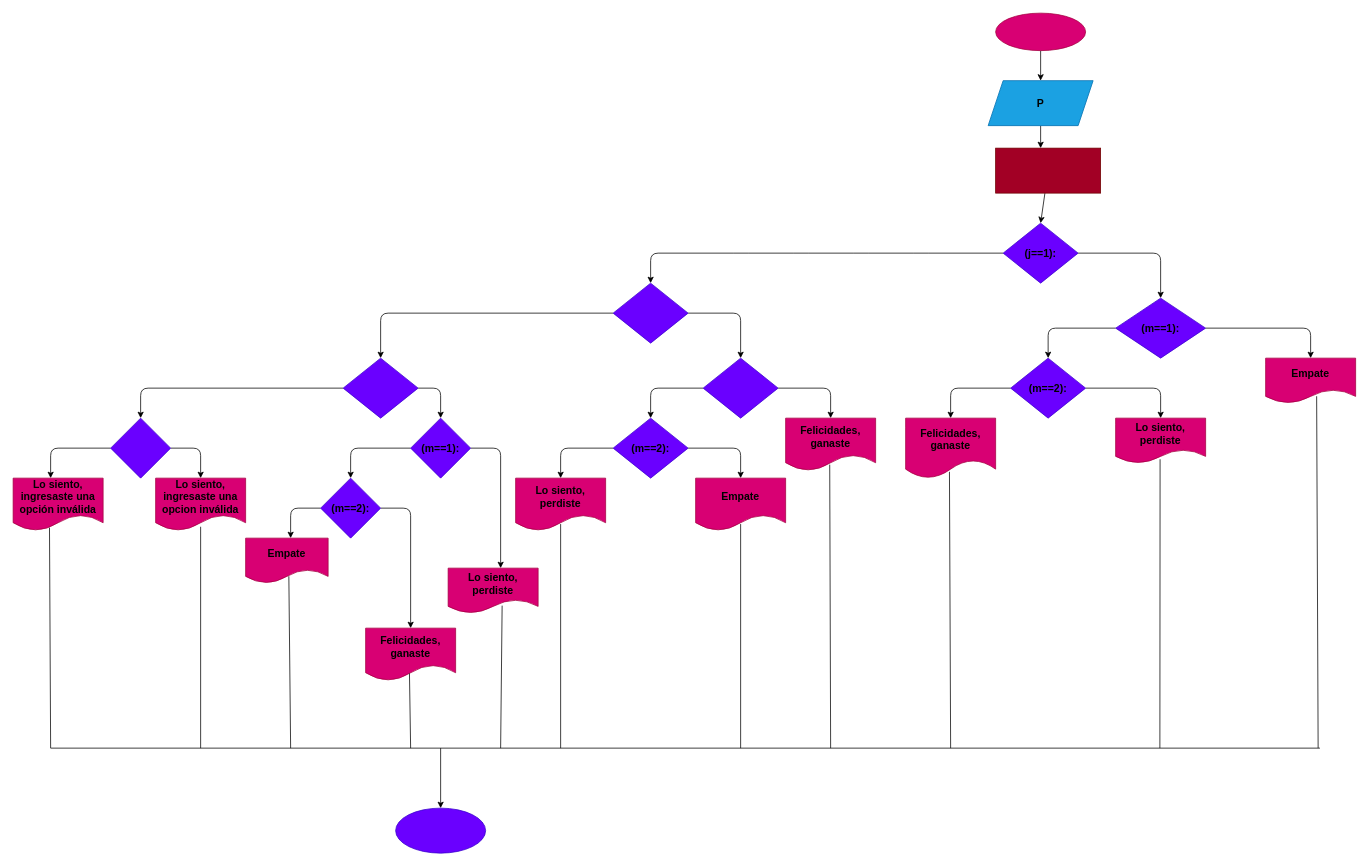
Image size: 1369x866. Some labels were removed from this diagram. Each missing label, with the centre of its shape:
(m==1).: pixel 740 387
(p==2):: pixel 650 312
(p==3):: pixel 380 387
(p> 4):: pixel 140 447
FIN: pixel 440 830
INICIO: pixel 1040 31
M = random.randint(1,3): pixel 1048 170
